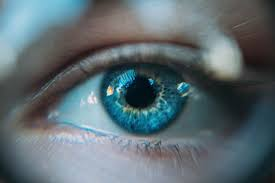pupil: (99, 62, 189, 135)
